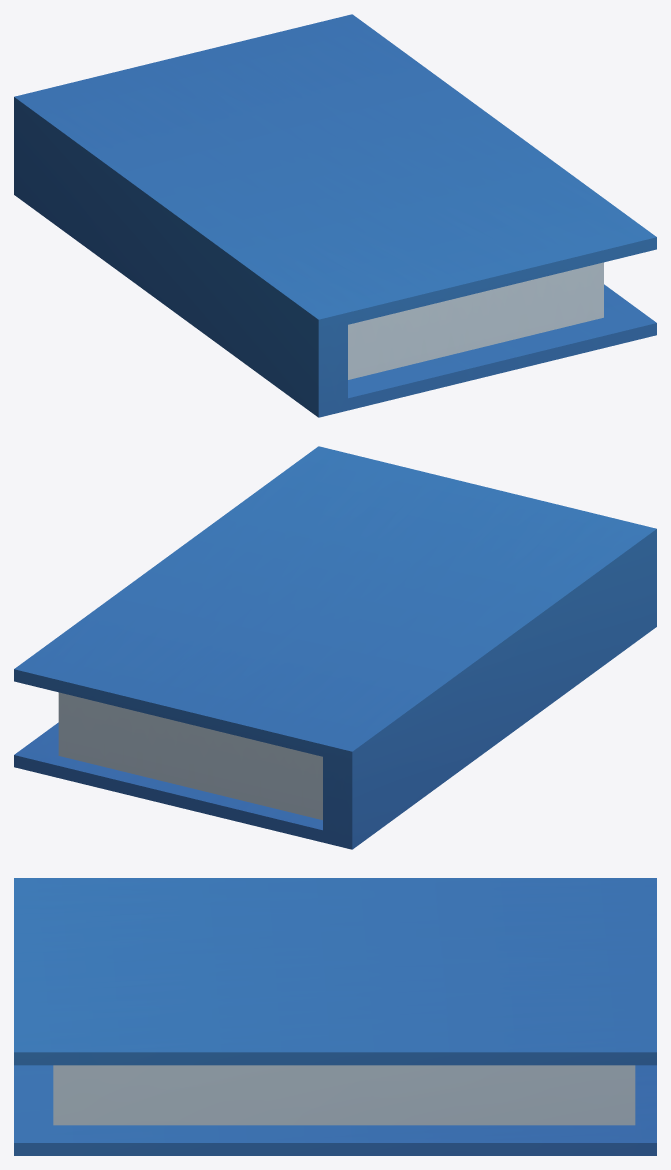
The model's file is book.fbx.
The picture shows the model from 3 angles, top to bottom: view 1: azimuth 30°, elevation 25°; view 2: azimuth 150°, elevation 25°; view 3: azimuth 270°, elevation 25°; orthographic projection. The views are drawn at different scales.
Visible parts, largest first — view 1: book; view 2: book; view 3: book.
Part boxes in pixels (box(x1,y1,x2,y2)): book: box(14, 14, 656, 417); book: box(14, 446, 656, 849); book: box(14, 878, 656, 1155).
Size of the model in its own units: 92.65 by 25.65 by 144.
